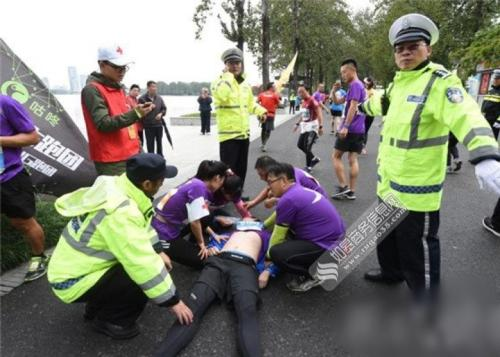10+: (1, 1, 499, 356)
down: (149, 208, 273, 356)
